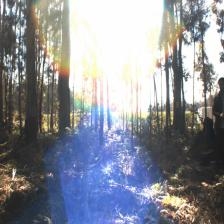trunktrack_idkeyframe: (57, 26, 70, 131), (24, 23, 36, 136), (172, 66, 183, 131), (99, 92, 104, 145), (165, 78, 170, 131), (106, 99, 110, 129)
